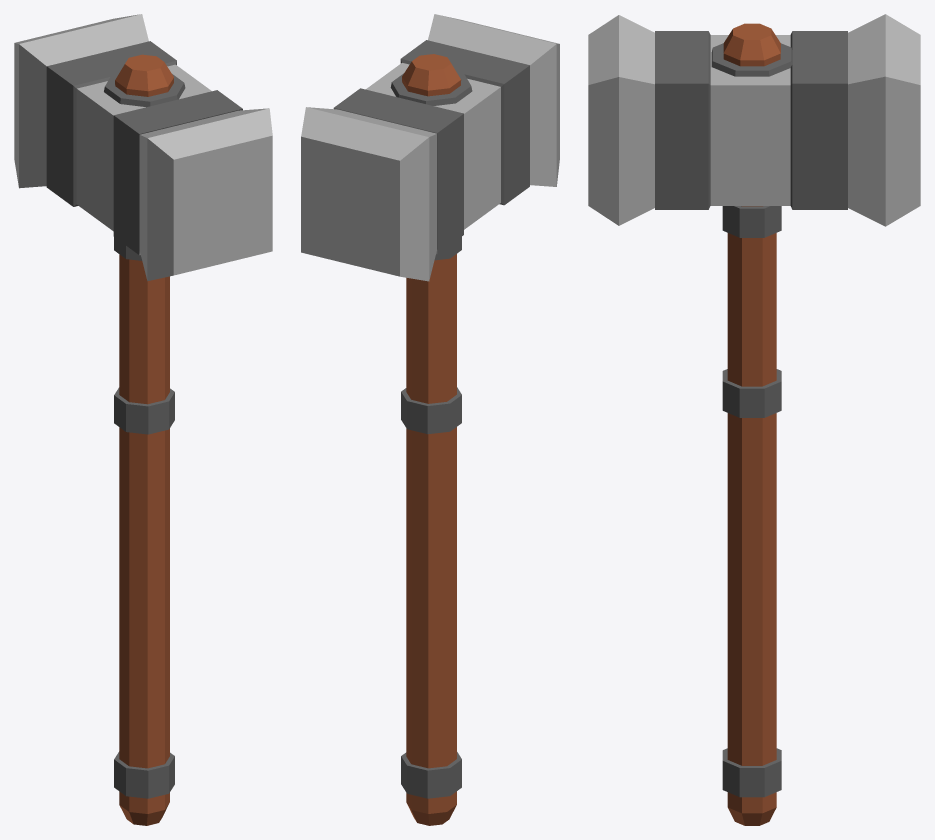
The model's file is Hammer.glb.
3 views of the same model, side by side, from view 1: azimuth 30°, elevation 25°; view 2: azimuth 150°, elevation 25°; view 3: azimuth 270°, elevation 25° (orthographic). The views are drawn at different scales.
Parts seen in each view (by area): view 1: HammerObject; view 2: HammerObject; view 3: HammerObject.
Part boxes in pixels (<box>): HammerObject: <box>14,14,272,825</box>; HammerObject: <box>301,14,559,825</box>; HammerObject: <box>588,14,920,825</box>.
Bounding box in the file's own units: 6.05 × 35.43 × 13.57.
